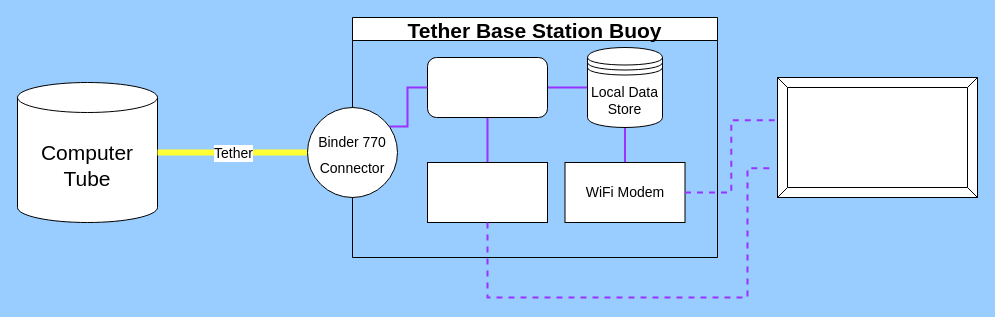
Some shapes in this 995 by 317 pixel diagram are drawn without their labels. Here are the shapes that lost their labels. From the top down, the centre of each, then its label:
At pixel 487 87: "Raspberry Pi".
At pixel 877 137: "Control Laptop".
At pixel 487 192: "Cell Modem".
